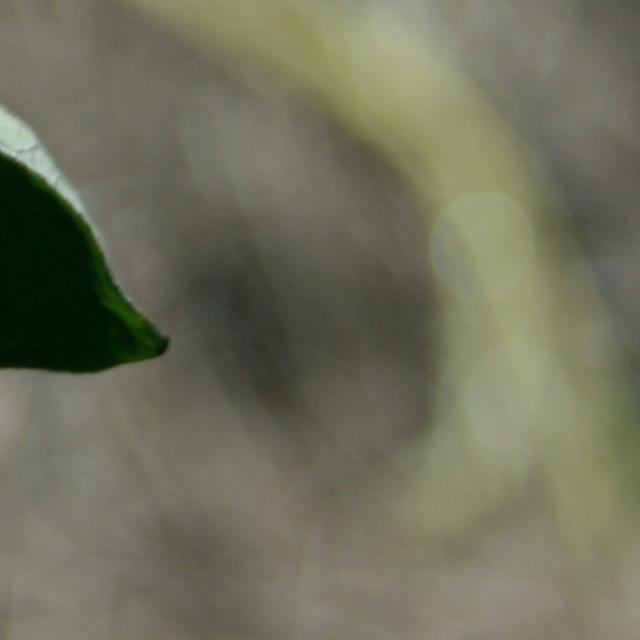Tomato leaf: (0, 0, 156, 394)
